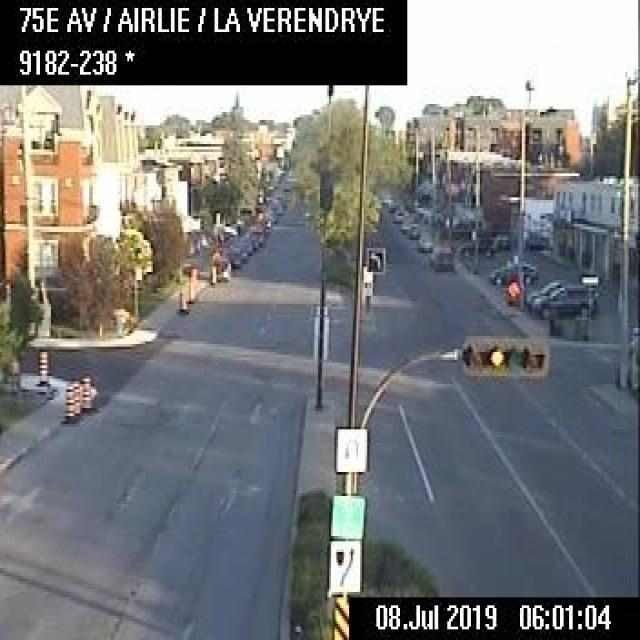construction: (36, 345, 48, 385), (61, 383, 73, 421), (79, 373, 91, 408), (187, 265, 197, 302), (70, 378, 80, 414), (504, 278, 519, 300), (177, 278, 187, 310), (209, 264, 216, 283)
vehicle: (530, 281, 594, 317), (524, 278, 565, 308), (489, 258, 535, 282), (456, 236, 491, 258), (428, 246, 451, 269), (209, 258, 226, 277), (223, 248, 241, 265), (415, 233, 432, 248), (406, 222, 418, 236)
